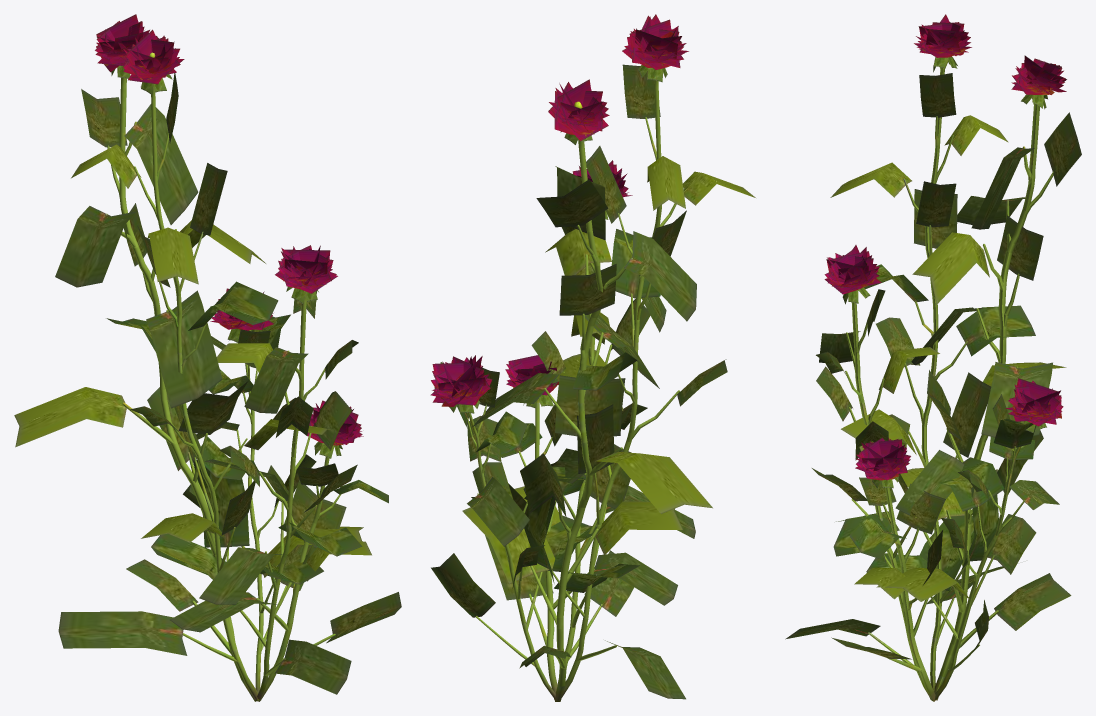
File: small_flower1.FBX
The picture shows the model from 3 angles, left to right: view 1: azimuth 30°, elevation 25°; view 2: azimuth 150°, elevation 25°; view 3: azimuth 270°, elevation 25°; orthographic projection. The views are drawn at different scales.
Parts seen in each view (by area): view 1: Red_Rose; view 2: Red_Rose; view 3: Red_Rose.
Boxes of the visible parts, bbox=[...] form: Red_Rose: bbox=[14, 14, 401, 701]; Red_Rose: bbox=[430, 14, 755, 701]; Red_Rose: bbox=[785, 14, 1081, 701].
Size of the model in its own units: 0.3229 by 0.697 by 0.2962.
